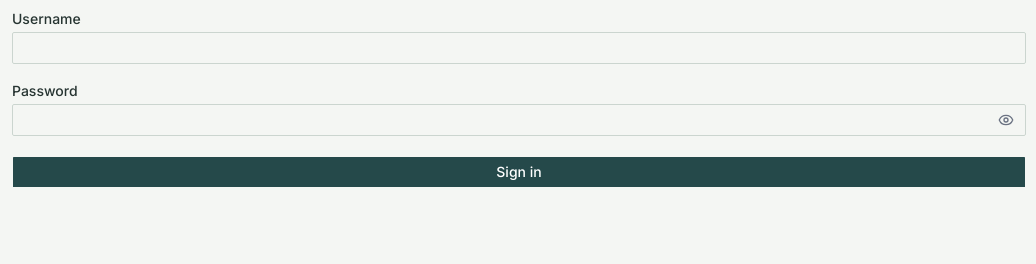
Test case: LoginForm › shows generic error on failed login
Type "desk.dhq" into the field labelled "Username" at (519, 48), box [12,32,1026,64]
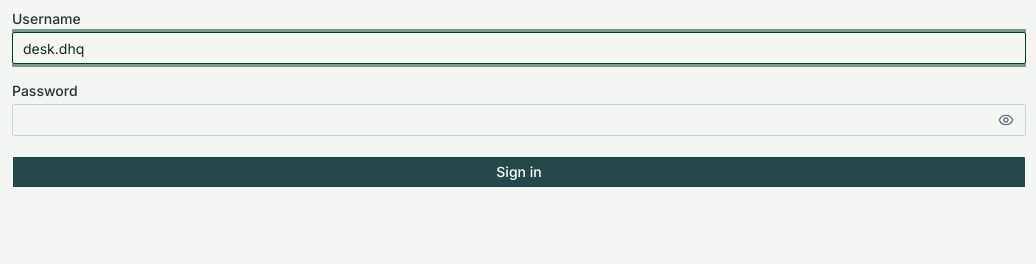
Type "wrong" into the password field labelled "Password" at (519, 120), box [12,104,1026,136]
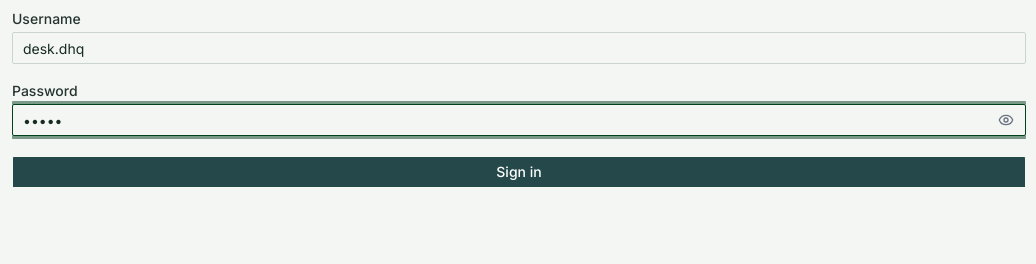
Click the button "Sign in" at (519, 172), box [12,156,1026,188]
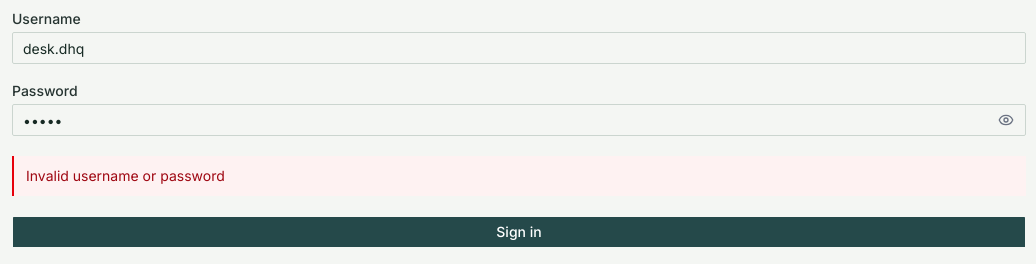
expect the text "Invalid username or password" is shown: met, box [12,156,1026,196]
